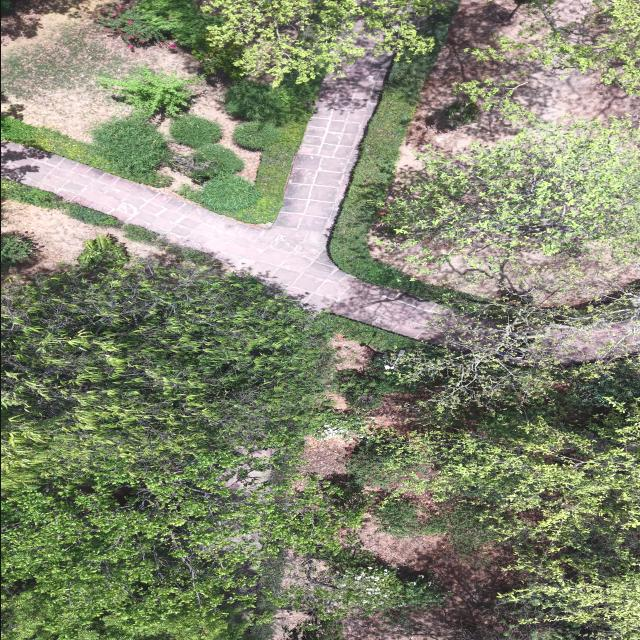DRY_AREA: (1, 58, 453, 341), (5, 57, 440, 340), (1, 143, 464, 343), (389, 0, 639, 201), (1, 0, 261, 182), (406, 0, 639, 153), (341, 509, 527, 639), (342, 514, 527, 639), (343, 521, 524, 639), (3, 200, 97, 282), (187, 79, 261, 183), (302, 436, 355, 478)
PATHWAYS: (1, 56, 454, 341)
VEGETATION_TREE: (1, 0, 639, 639), (1, 243, 444, 639), (1, 267, 360, 639), (349, 287, 639, 639), (349, 290, 639, 639), (316, 341, 639, 639), (332, 118, 638, 411), (352, 360, 639, 639), (96, 0, 449, 223), (377, 0, 639, 294), (1, 266, 326, 489), (385, 401, 639, 639), (3, 478, 344, 639), (97, 0, 320, 223), (98, 0, 320, 223), (113, 0, 320, 223), (329, 12, 467, 305), (3, 483, 260, 639), (373, 403, 639, 552), (384, 121, 639, 266), (394, 290, 638, 414), (455, 0, 639, 121), (1, 97, 243, 186), (205, 0, 450, 84), (180, 80, 320, 223), (1, 178, 212, 264), (473, 0, 639, 94), (263, 549, 443, 624), (225, 81, 319, 223), (97, 0, 246, 80), (1, 116, 171, 186), (502, 556, 639, 639), (96, 0, 241, 78), (1, 25, 132, 100), (235, 123, 305, 223), (172, 144, 260, 217), (372, 497, 491, 550), (1, 178, 121, 227), (439, 599, 585, 639), (97, 0, 217, 48), (335, 566, 443, 614), (332, 354, 421, 409), (97, 67, 194, 117), (90, 117, 169, 177), (453, 71, 536, 122), (225, 80, 318, 123), (318, 313, 417, 352), (137, 0, 217, 47), (122, 224, 212, 265), (96, 2, 168, 48), (178, 175, 259, 214), (170, 144, 243, 183), (346, 439, 400, 489), (374, 499, 440, 537), (200, 175, 259, 212), (306, 407, 368, 440), (77, 235, 129, 269), (170, 115, 222, 148), (193, 46, 244, 79), (195, 144, 243, 175), (170, 155, 219, 184), (233, 121, 281, 149), (1, 233, 38, 267), (441, 100, 479, 130), (285, 620, 342, 639), (122, 224, 159, 244), (1, 0, 12, 11)
